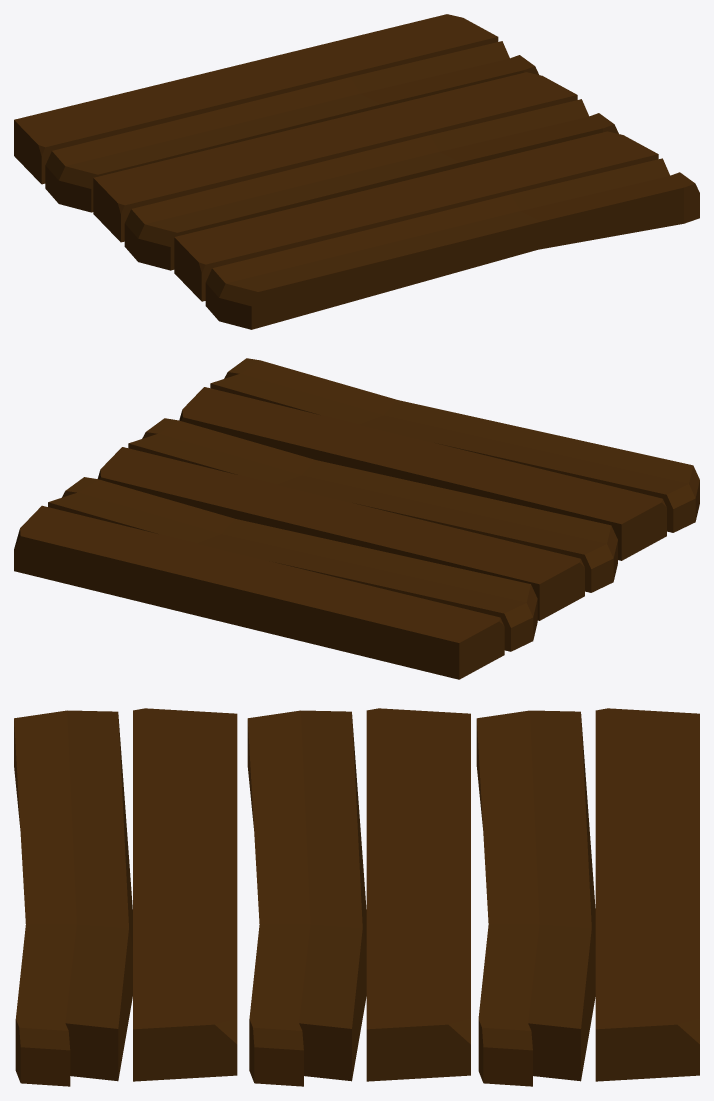
File: woodenplanks.fbx
3 renders of one model, top to bottom at view 1: azimuth 30°, elevation 25°; view 2: azimuth 150°, elevation 25°; view 3: azimuth 270°, elevation 25°, orthographic. The views are drawn at different scales.
Visible parts, largest first — view 1: Cube.001, Cube.002, Cube.003; view 2: Cube.003, Cube.001, Cube.002; view 3: Cube.001, Cube.002, Cube.003.
Boxes of the visible parts, box(x1,y1,x2,y2) form: Cube.001: box(174, 131, 699, 329); Cube.002: box(93, 72, 618, 270); Cube.003: box(14, 14, 538, 212); Cube.003: box(14, 477, 537, 679); Cube.001: box(179, 358, 699, 560); Cube.002: box(97, 418, 617, 620); Cube.001: box(14, 708, 237, 1086); Cube.002: box(247, 708, 470, 1086); Cube.003: box(476, 708, 699, 1086).
Bounding box in the file's own units: 986 × 76.15 × 870.
